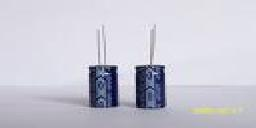Electrolytic-capacitor: (132, 24, 170, 112), (86, 25, 122, 109)
